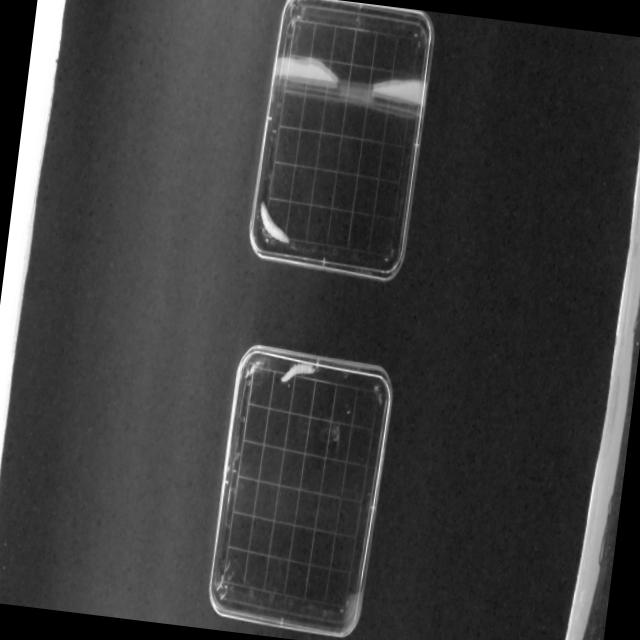larva: (255, 198, 294, 244), (279, 358, 316, 387)
